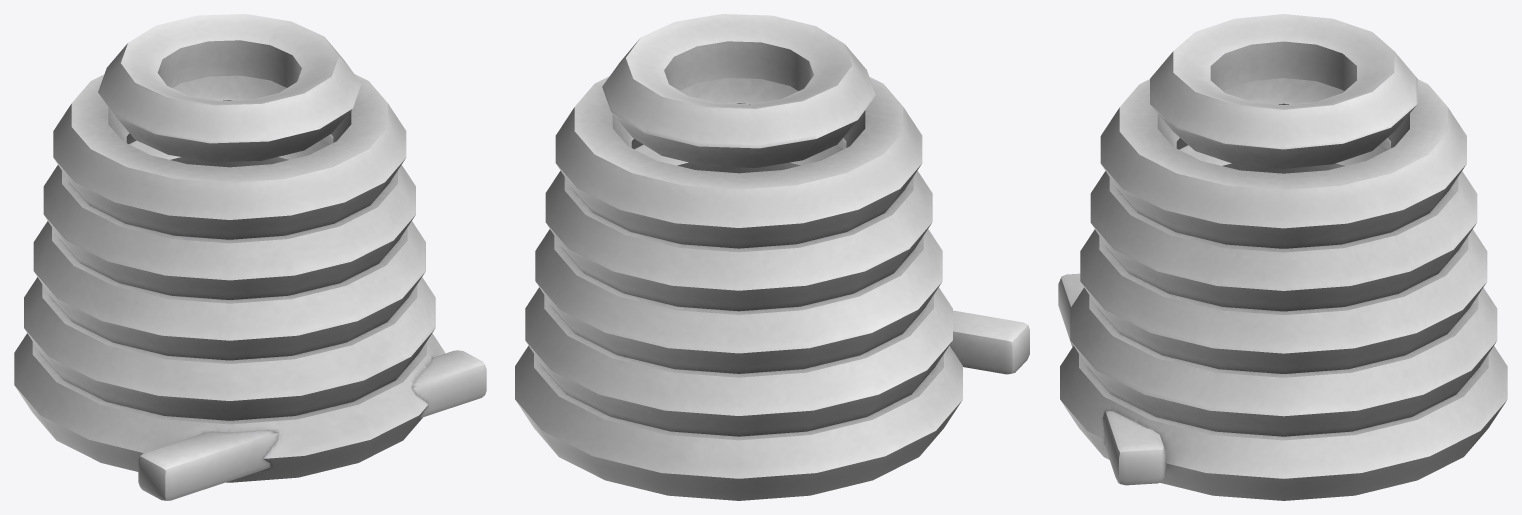
Rendered from RopeCoil.fbx.
3 views of the same model, side by side, from view 1: azimuth 30°, elevation 25°; view 2: azimuth 150°, elevation 25°; view 3: azimuth 270°, elevation 25° (orthographic). The views are drawn at different scales.
Visible parts, largest first — view 1: RopeCoil; view 2: RopeCoil; view 3: RopeCoil.
Boxes of the visible parts, x1,y1,x2,y2 form: RopeCoil: [14, 14, 486, 500]; RopeCoil: [515, 14, 1029, 500]; RopeCoil: [1058, 14, 1507, 500].
Bounding box in the file's own units: 0.53 × 0.452 × 0.5239.
